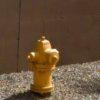Hydrant: (21, 27, 65, 96)
